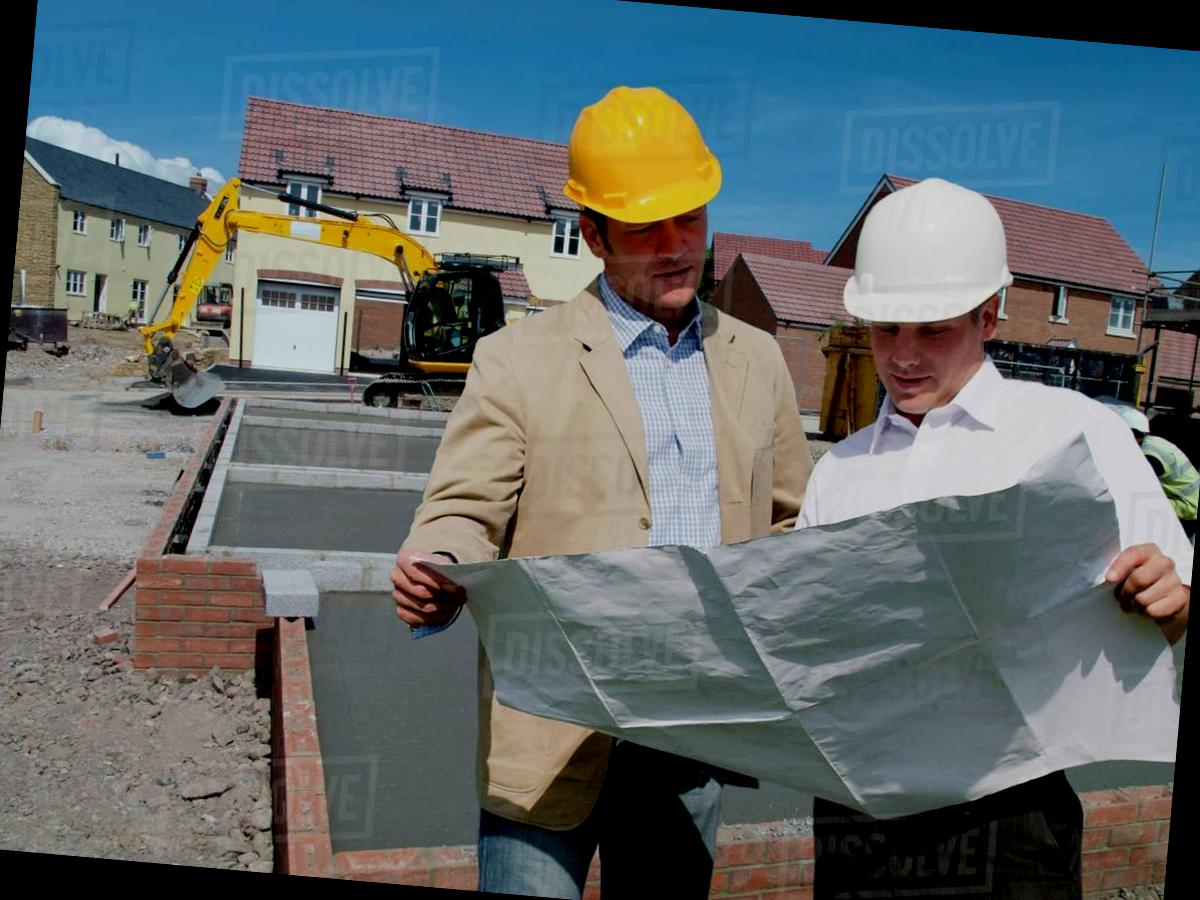helmet: (829, 169, 1024, 347), (553, 74, 744, 236)
no_vest: (477, 275, 803, 666)
person: (357, 38, 857, 900), (743, 161, 1189, 900)
